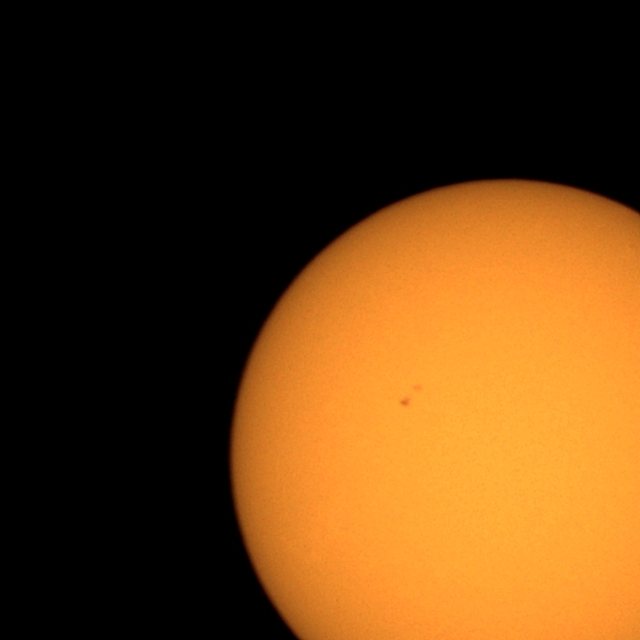sunspot: (398, 383, 424, 408), (398, 396, 412, 408)
